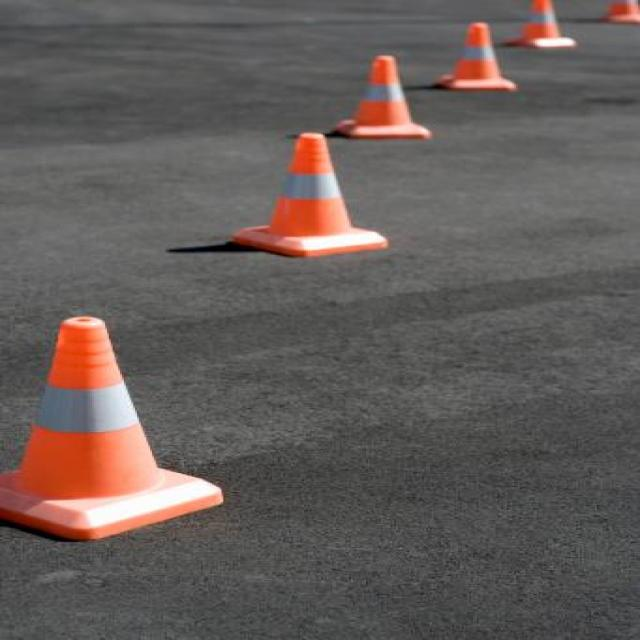Cone: (2, 315, 227, 543), (232, 130, 384, 261), (336, 54, 430, 140), (432, 22, 518, 97), (496, 1, 574, 46)
